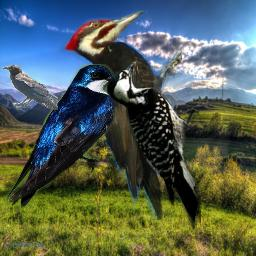Crow: (2, 65, 58, 110)
Swallow: (5, 64, 118, 208)
Woodpecker: (58, 10, 182, 220), (105, 57, 201, 234)
